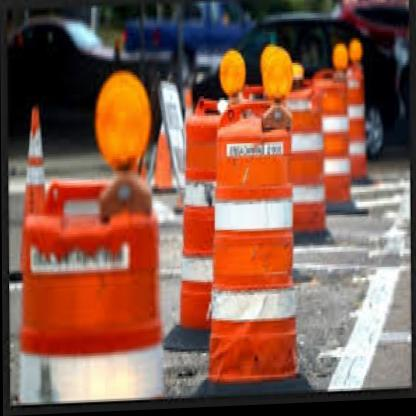obstacle: (14, 195, 161, 406), (201, 107, 296, 387), (176, 100, 221, 336)
